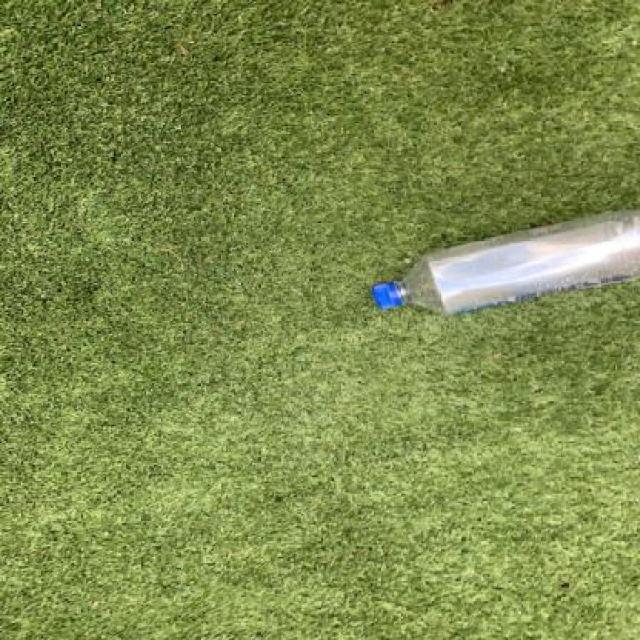trash: (361, 202, 640, 322)
